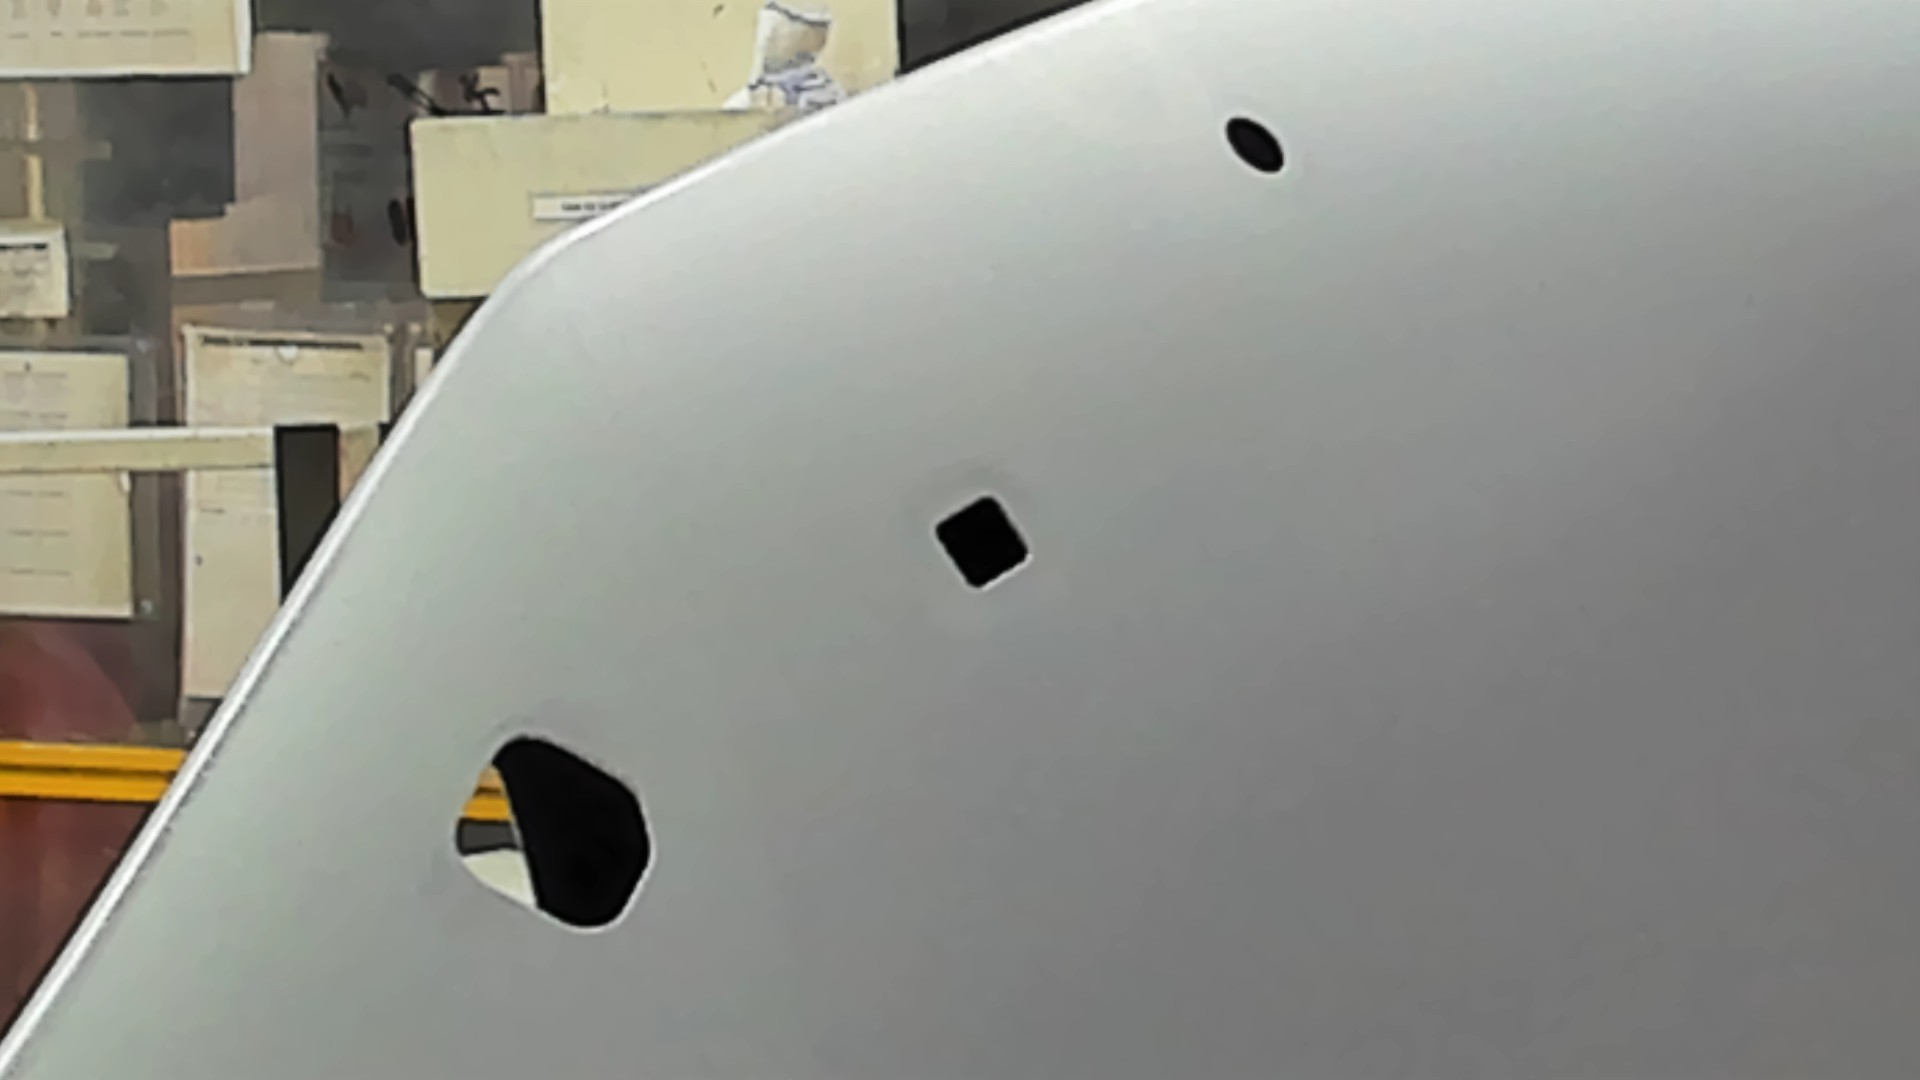capo: (1042, 178, 1920, 1080)
chico: (1218, 108, 1291, 181)
grande: (447, 729, 659, 938)
mediano: (928, 487, 1036, 595)
